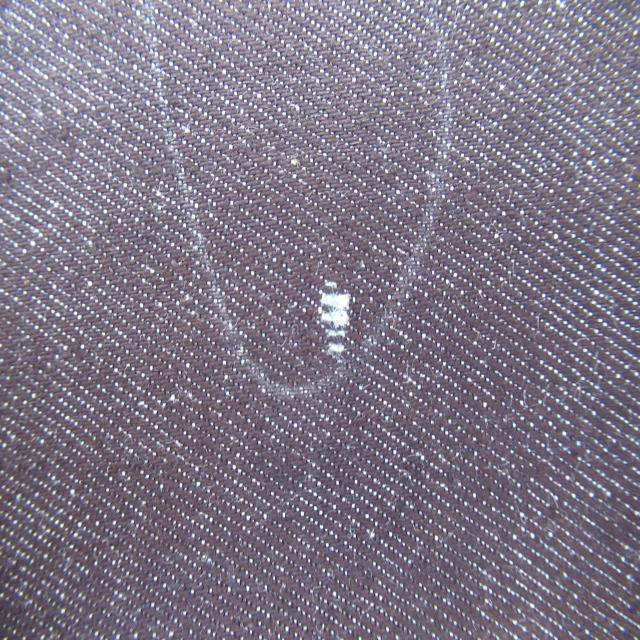pulled_or_thick_thread: (318, 280, 352, 372)
